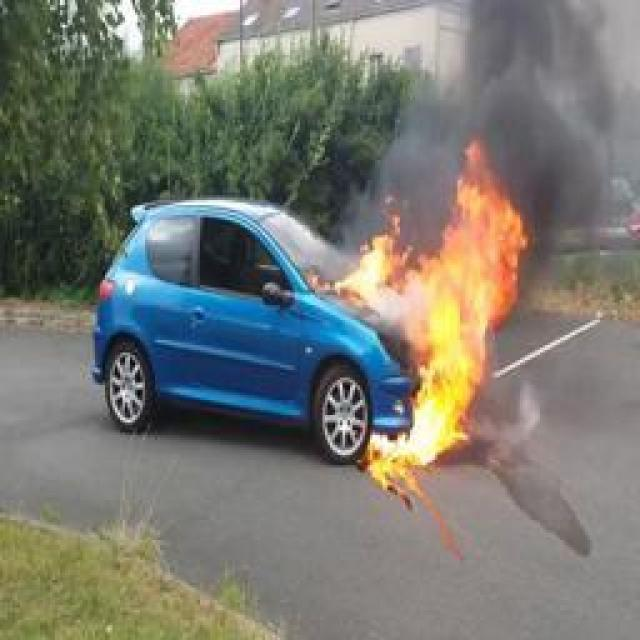Fire: (338, 135, 532, 470)
